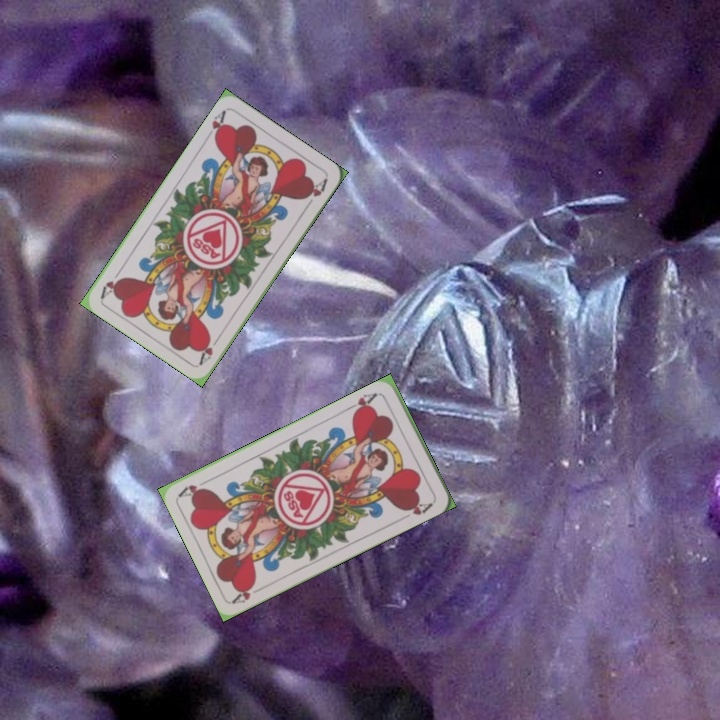HA: (344, 389, 383, 417), (201, 106, 229, 144), (195, 331, 224, 367), (229, 580, 268, 606)
